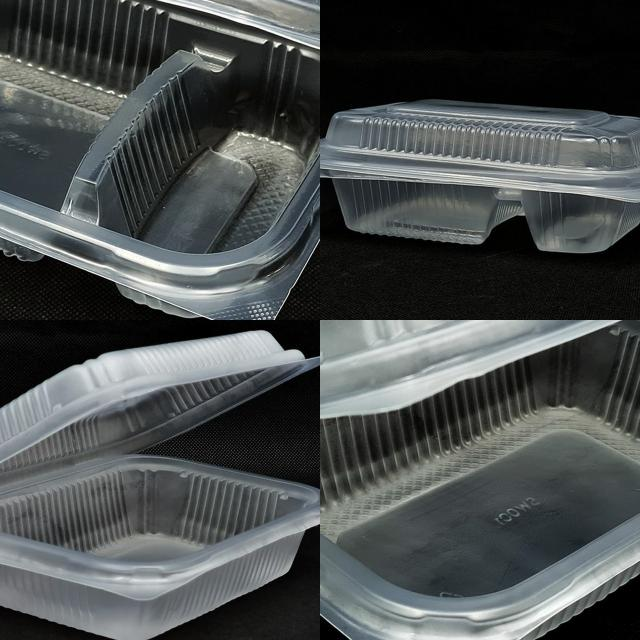Single-Use-Plastic: (321, 320, 640, 640), (0, 0, 319, 319), (0, 331, 319, 639), (321, 100, 640, 252)
